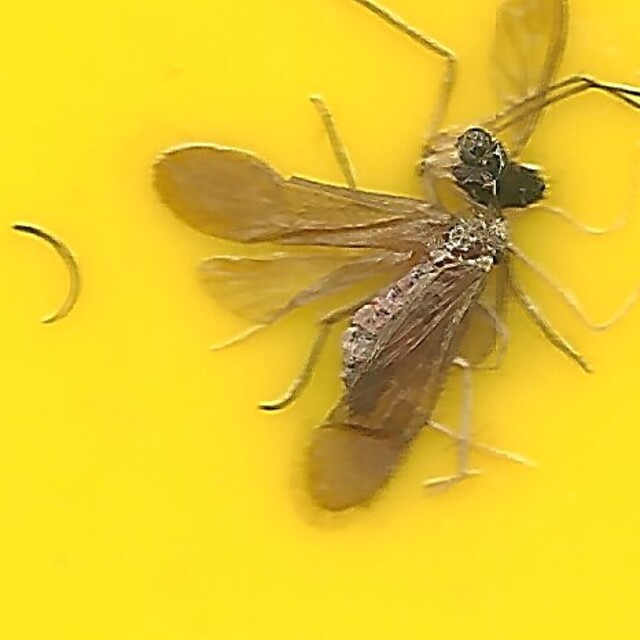Trichoptera: (137, 133, 503, 507)
